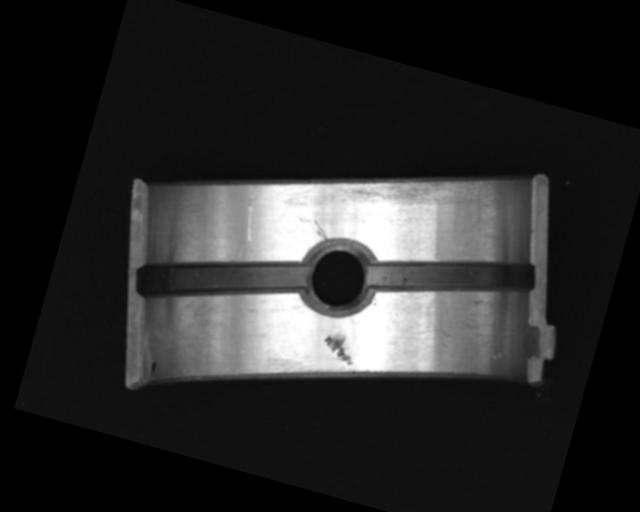blot: (148, 359, 158, 378)
bruise: (319, 328, 361, 366), (432, 326, 455, 341), (490, 350, 505, 363)
gap: (136, 222, 309, 335), (365, 224, 538, 324)
hole: (293, 231, 384, 320)
nick: (238, 181, 267, 242), (310, 220, 332, 240)
scratch: (331, 141, 489, 237)
